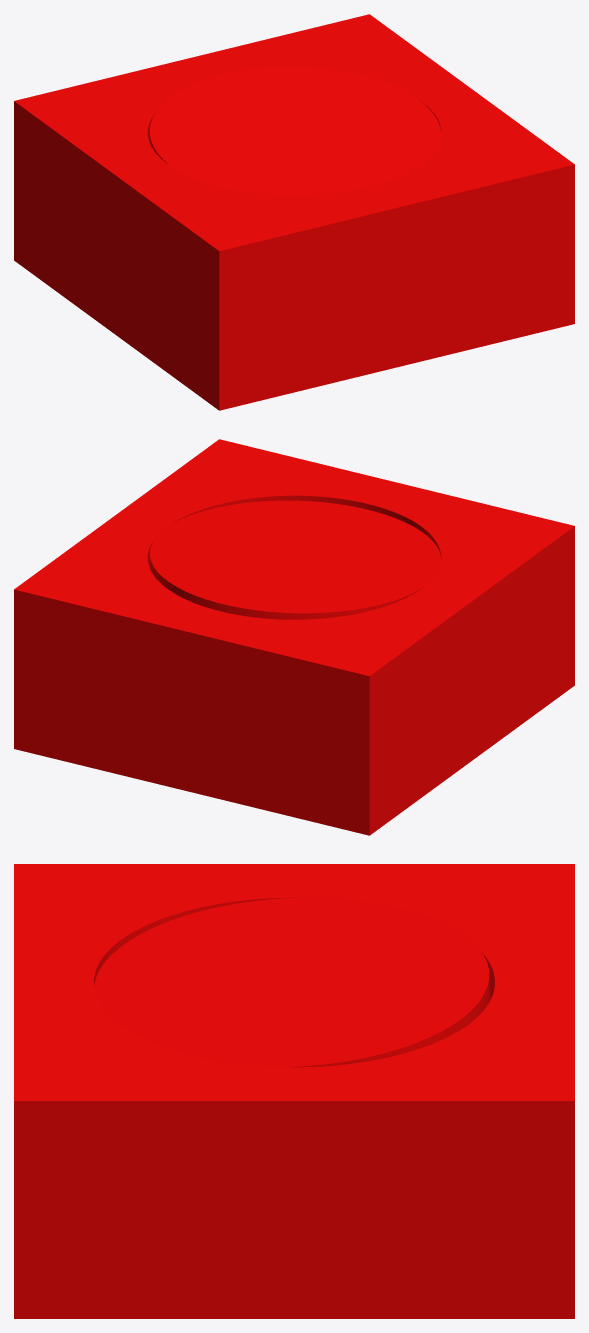
File: m3-control.glb
The picture shows the model from 3 angles, top to bottom: view 1: azimuth 30°, elevation 25°; view 2: azimuth 150°, elevation 25°; view 3: azimuth 270°, elevation 25°; orthographic projection. The views are drawn at different scales.
Visible parts, largest first — view 1: housing, shaft; view 2: housing, shaft; view 3: housing, shaft.
Boxes of the visible parts, x1,y1,x2,y2 form: housing: (14, 14, 574, 410); shaft: (149, 67, 441, 194); housing: (14, 439, 574, 835); shaft: (149, 500, 441, 619); housing: (14, 864, 574, 1318); shaft: (94, 897, 490, 1067).
Bounding box in the file's own units: 70 × 32.15 × 70.
